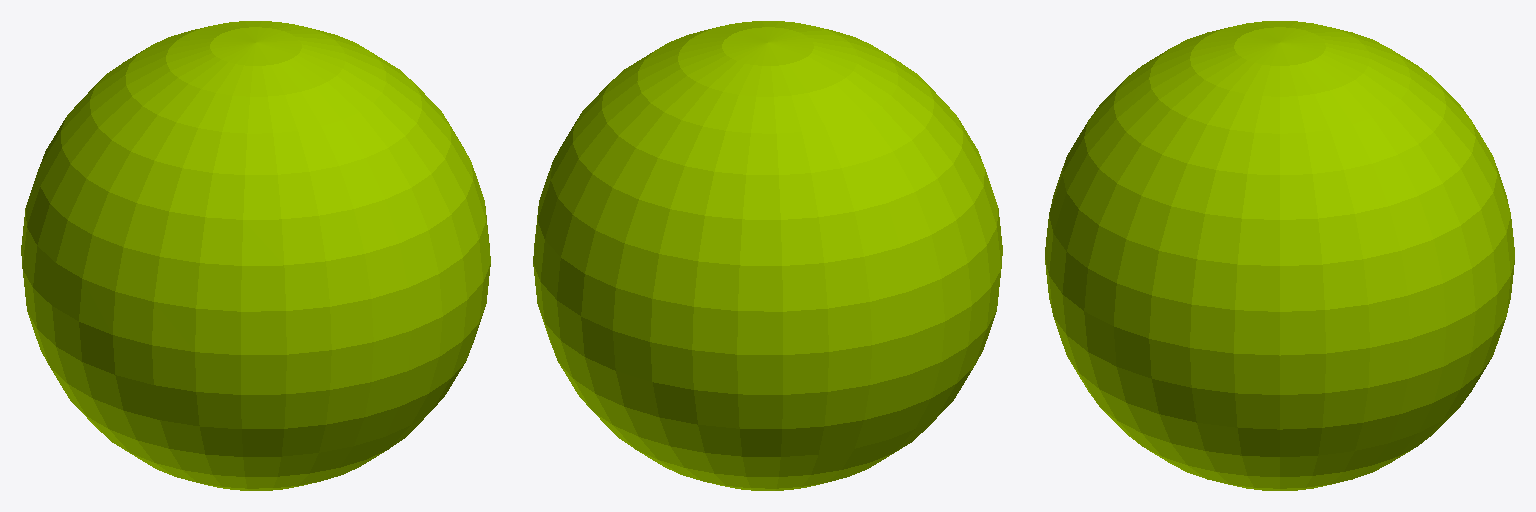
The model's file is ornament.obj.
The picture shows the model from 3 angles: view 1: azimuth 30°, elevation 25°; view 2: azimuth 150°, elevation 25°; view 3: azimuth 270°, elevation 25°; orthographic projection.
Visible parts, largest first — view 1: Sphere.099_Sphere.103; view 2: Sphere.099_Sphere.103; view 3: Sphere.099_Sphere.103.
Part boxes in pixels (x1,y1,x2,y2): Sphere.099_Sphere.103: (21,21,490,490); Sphere.099_Sphere.103: (533,21,1002,490); Sphere.099_Sphere.103: (1045,21,1514,490).
Bounding box in the file's own units: 0.227 × 0.227 × 0.227.